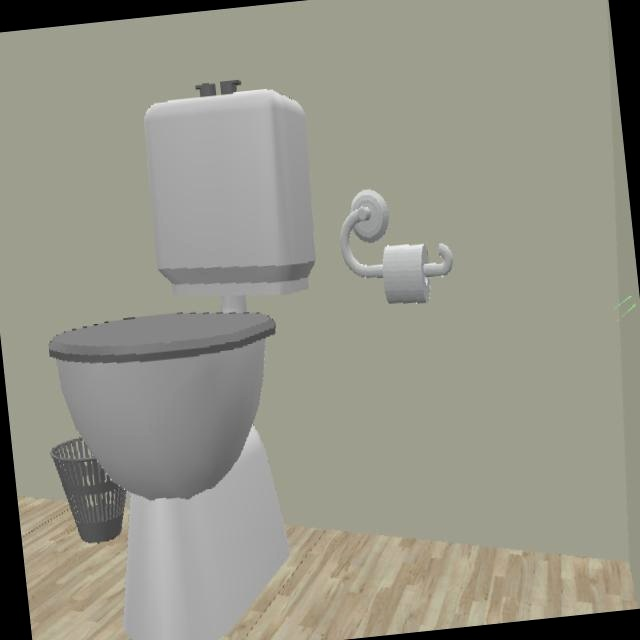toilet: (48, 312, 290, 640), (144, 90, 317, 297)
